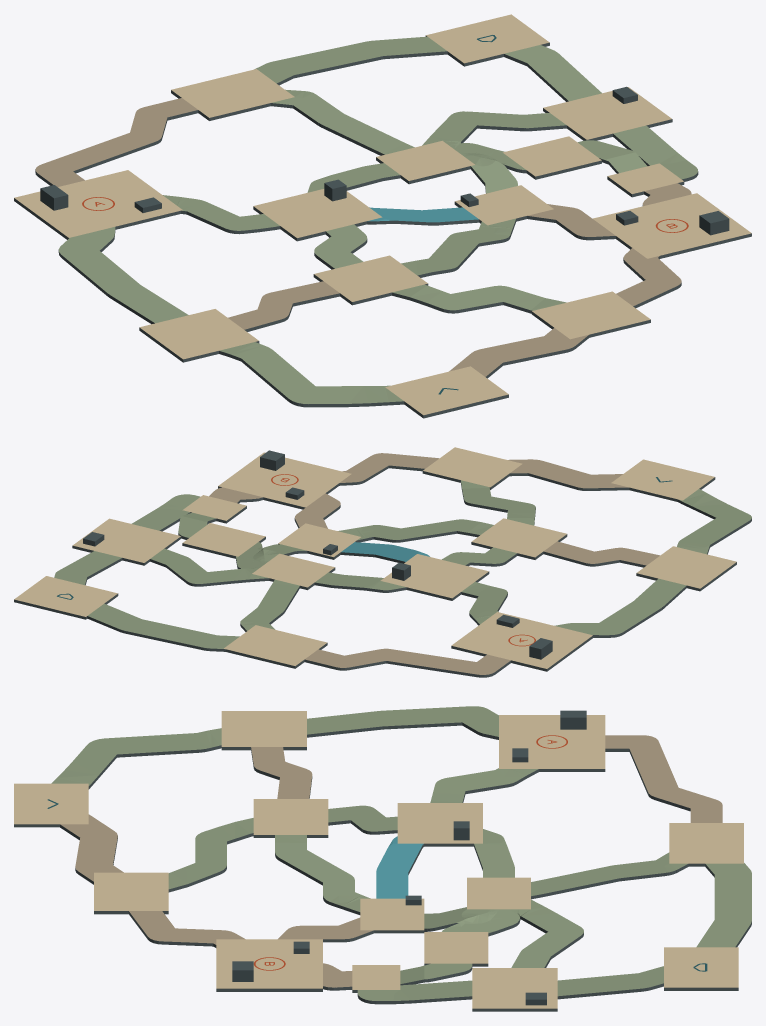
File: ayodhya.glb
The picture shows the model from 3 angles, top to bottom: view 1: azimuth 30°, elevation 25°; view 2: azimuth 150°, elevation 25°; view 3: azimuth 270°, elevation 25°; orthographic projection. The views are drawn at different scales.
Visible parts, largest first — view 1: Ayodhya • continuous floor; view 2: Ayodhya • continuous floor, Ferry winch, Petition screen; view 3: Ayodhya • continuous floor, Petition screen.
Part boxes in pixels (<box>): Ayodhya • continuous floor: <box>14,14,751,418</box>; Ayodhya • continuous floor: <box>14,447,751,677</box>; Ferry winch: <box>260,450,284,470</box>; Petition screen: <box>529,638,552,659</box>; Ayodhya • continuous floor: <box>14,706,751,1011</box>; Petition screen: <box>560,710,586,729</box>.
Bounding box in the file's own units: 130 × 7.15 × 138.
